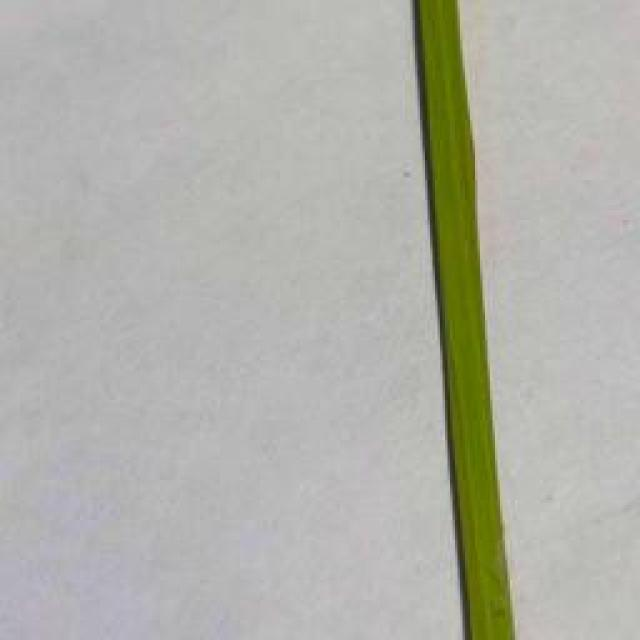Healthy-Plant: (398, 0, 525, 640)
